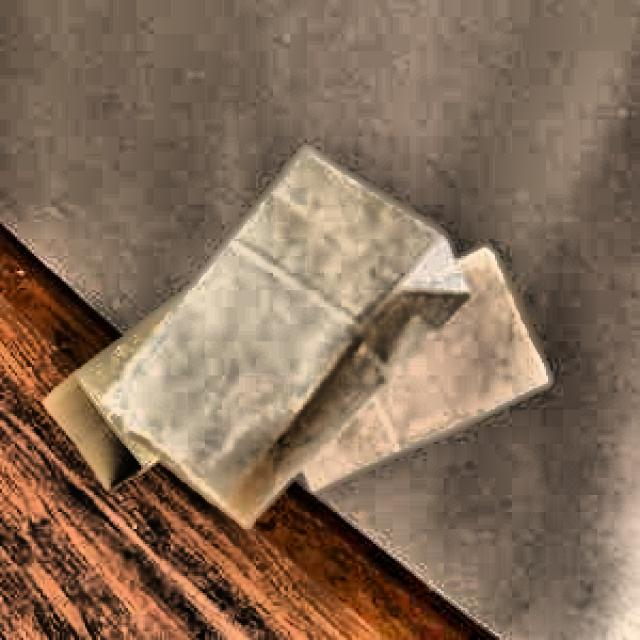Paper-bag: (92, 136, 476, 525), (257, 245, 544, 502), (42, 242, 288, 493)
